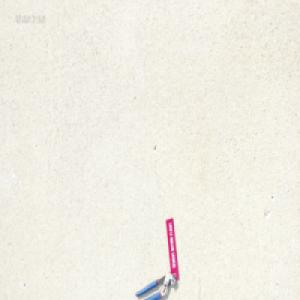Label: (165, 217, 179, 280)
Pliers: (135, 270, 175, 300)
